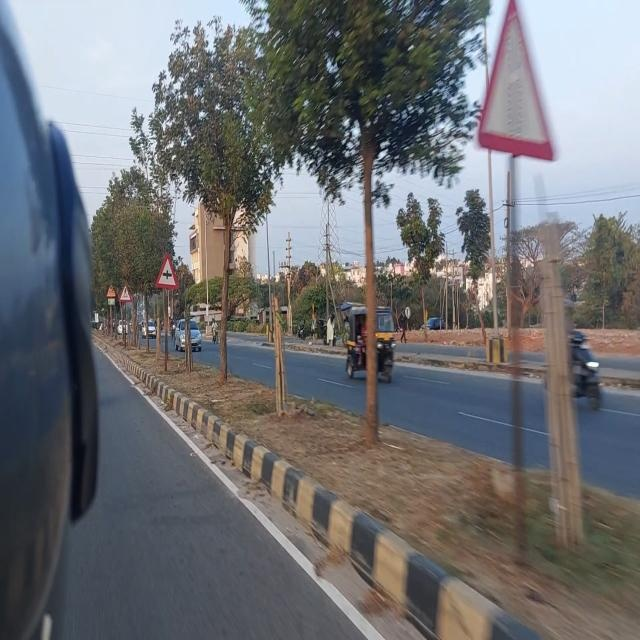bien_nguy_hiem: (477, 3, 553, 161), (158, 252, 178, 292), (120, 283, 132, 305)
